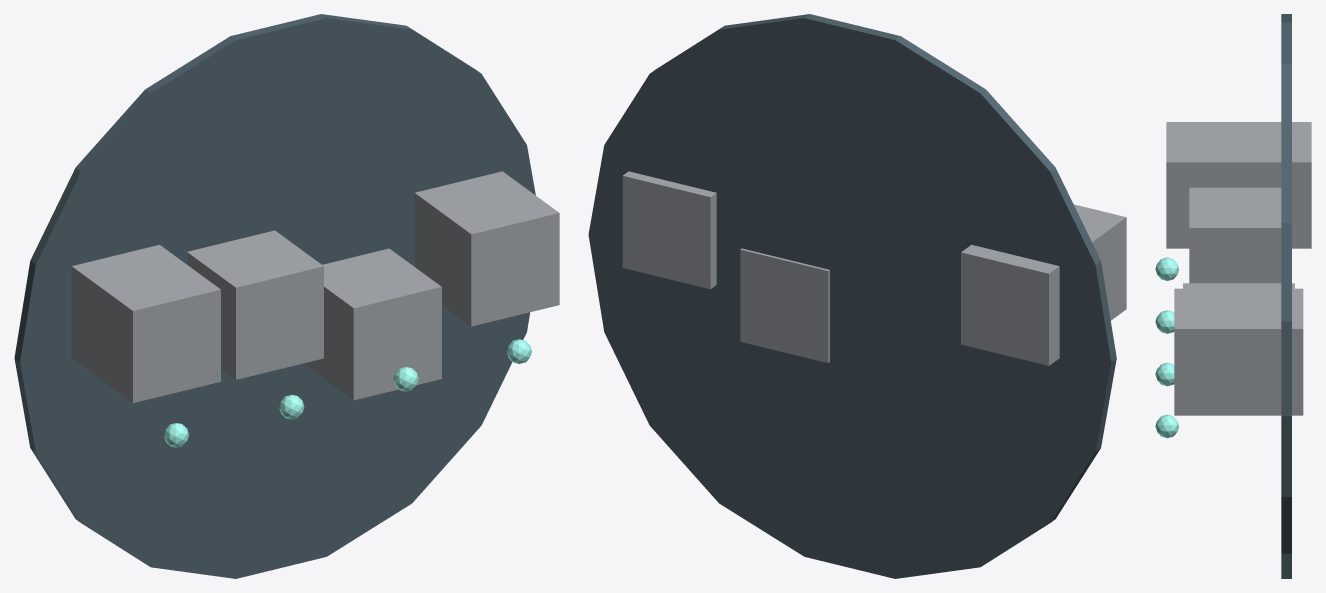
Rendered from 04_event_hazard_cluster.glb.
3 renders of one model, left to right at view 1: azimuth 30°, elevation 25°; view 2: azimuth 150°, elevation 25°; view 3: azimuth 270°, elevation 25°, orthographic. The views are drawn at different scales.
Visible parts, largest first — view 1: scatter_base, tech_crate_0, tech_crate_3, tech_crate_2, tech_crate_1; view 2: scatter_base, tech_crate_0, tech_crate_3, tech_crate_2; view 3: tech_crate_3, tech_crate_0, tech_crate_1, scatter_base, tech_crate_2, status_light_0, status_light_3, status_light_1, status_light_2.
Boxes of the visible parts, x1=… form: scatter_base: x1=14, y1=14, x2=535, y2=578; tech_crate_0: x1=71, y1=244, x2=220, y2=402; tech_crate_3: x1=414, y1=171, x2=559, y2=326; tech_crate_2: x1=303, y1=248, x2=441, y2=400; tech_crate_1: x1=187, y1=230, x2=323, y2=379; scatter_base: x1=588, y1=14, x2=1116, y2=578; tech_crate_0: x1=961, y1=204, x2=1126, y2=365; tech_crate_3: x1=622, y1=171, x2=716, y2=289; tech_crate_2: x1=740, y1=248, x2=829, y2=362; tech_crate_3: x1=1174, y1=288, x2=1303, y2=415; tech_crate_0: x1=1166, y1=122, x2=1311, y2=248; tech_crate_1: x1=1189, y1=187, x2=1281, y2=283; scatter_base: x1=1281, y1=14, x2=1291, y2=578; tech_crate_2: x1=1183, y1=283, x2=1294, y2=288; status_light_0: x1=1155, y1=257, x2=1178, y2=280; status_light_3: x1=1155, y1=414, x2=1178, y2=438; status_light_1: x1=1155, y1=310, x2=1174, y2=333; status_light_2: x1=1155, y1=362, x2=1174, y2=386.
Size of the model in its own units: 1.9 by 1.87 by 0.5236.
